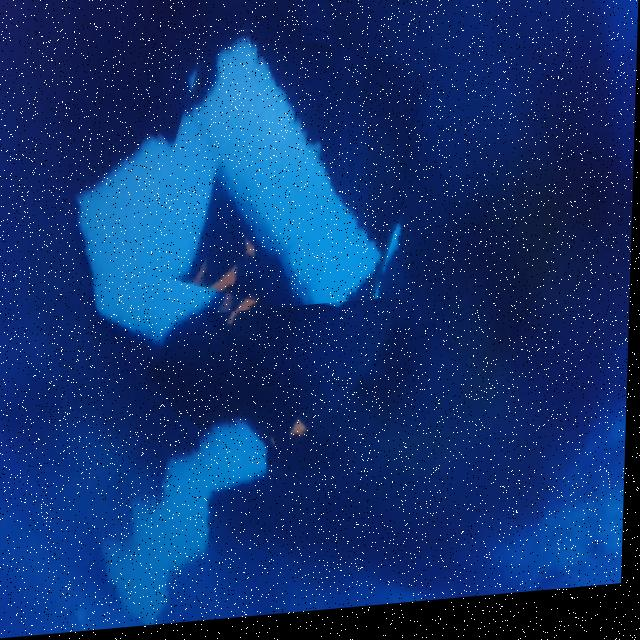thermocoal: (153, 13, 430, 322)
